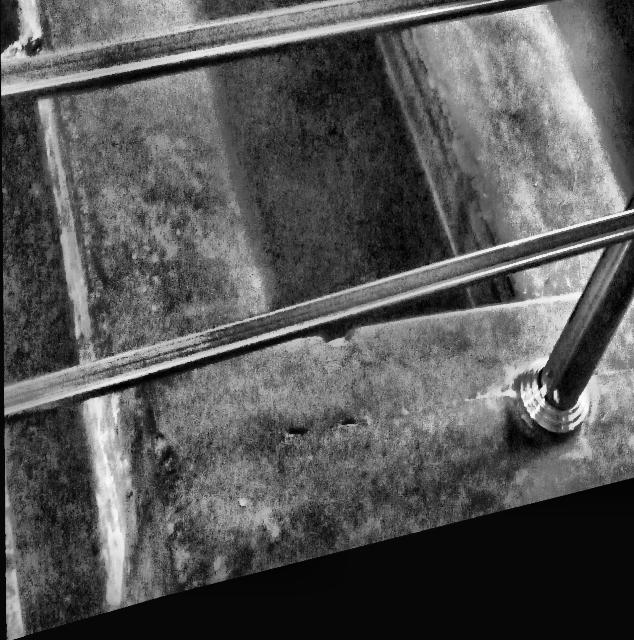obstacle: (0, 0, 634, 640)
